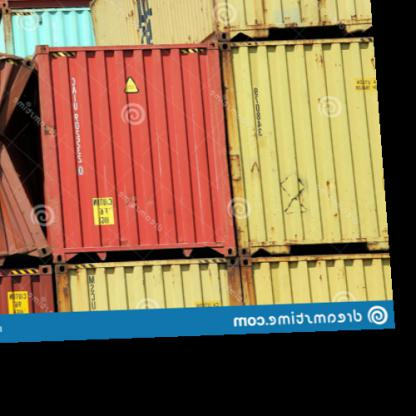Damage: (2, 59, 86, 257), (3, 70, 67, 234)
